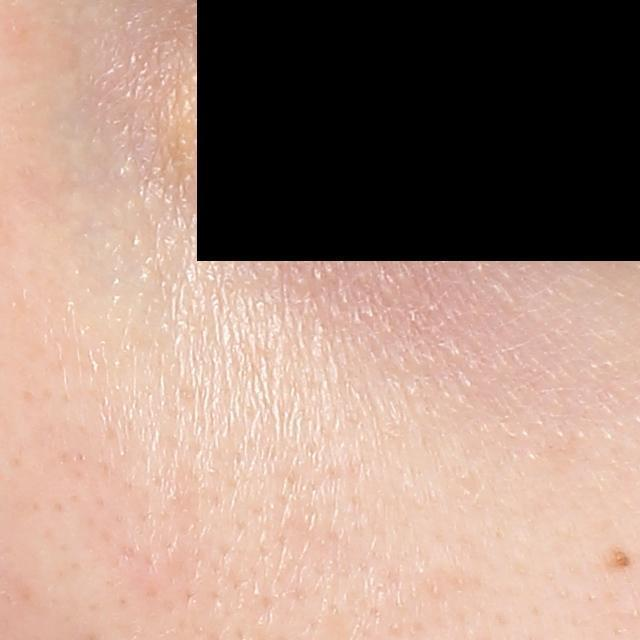nevus: (613, 544, 633, 570)
